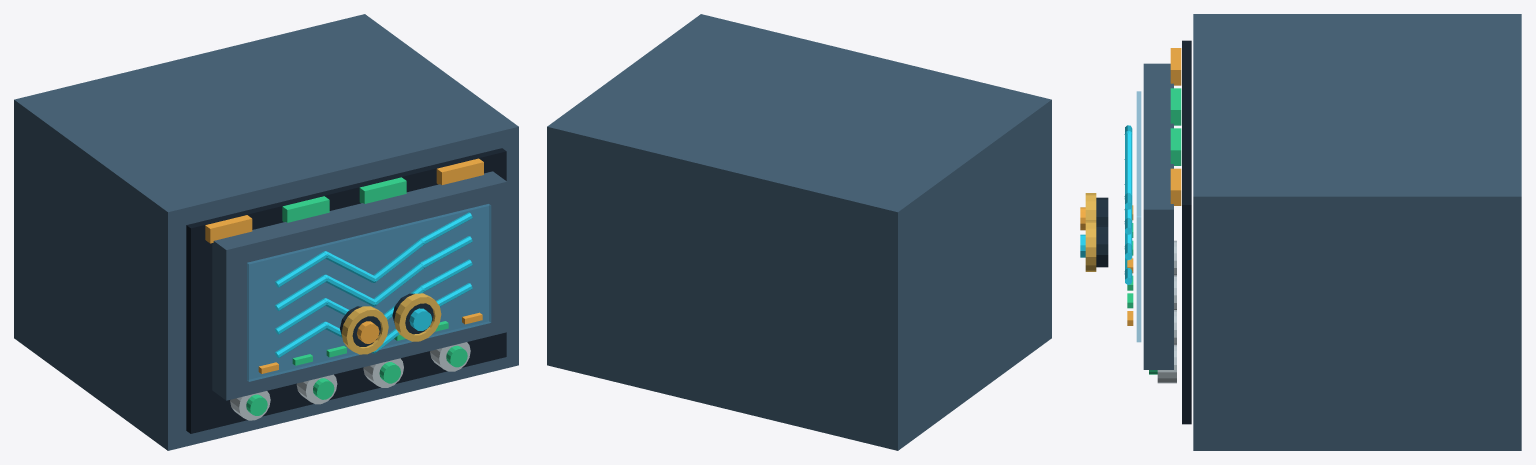
File: 35_L81_ComputeLaneHealthProbeArray.fbx
The picture shows the model from 3 angles, left to right: view 1: azimuth 30°, elevation 25°; view 2: azimuth 150°, elevation 25°; view 3: azimuth 270°, elevation 25°; orthographic projection. The views are drawn at different scales.
Visible parts, largest first — view 1: ComputeLaneHealthProbeArray; view 2: ComputeLaneHealthProbeArray; view 3: ComputeLaneHealthProbeArray.
Part boxes in pixels (<box>): ComputeLaneHealthProbeArray: <box>14,14,518,450</box>; ComputeLaneHealthProbeArray: <box>547,14,1051,450</box>; ComputeLaneHealthProbeArray: <box>1080,14,1521,450</box>.
Size of the model in its own units: 100 by 65 by 102.
